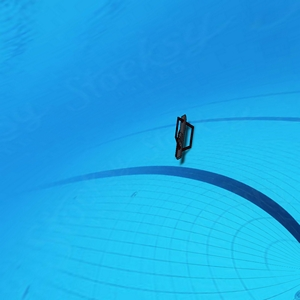submarine: (172, 111, 195, 157)
